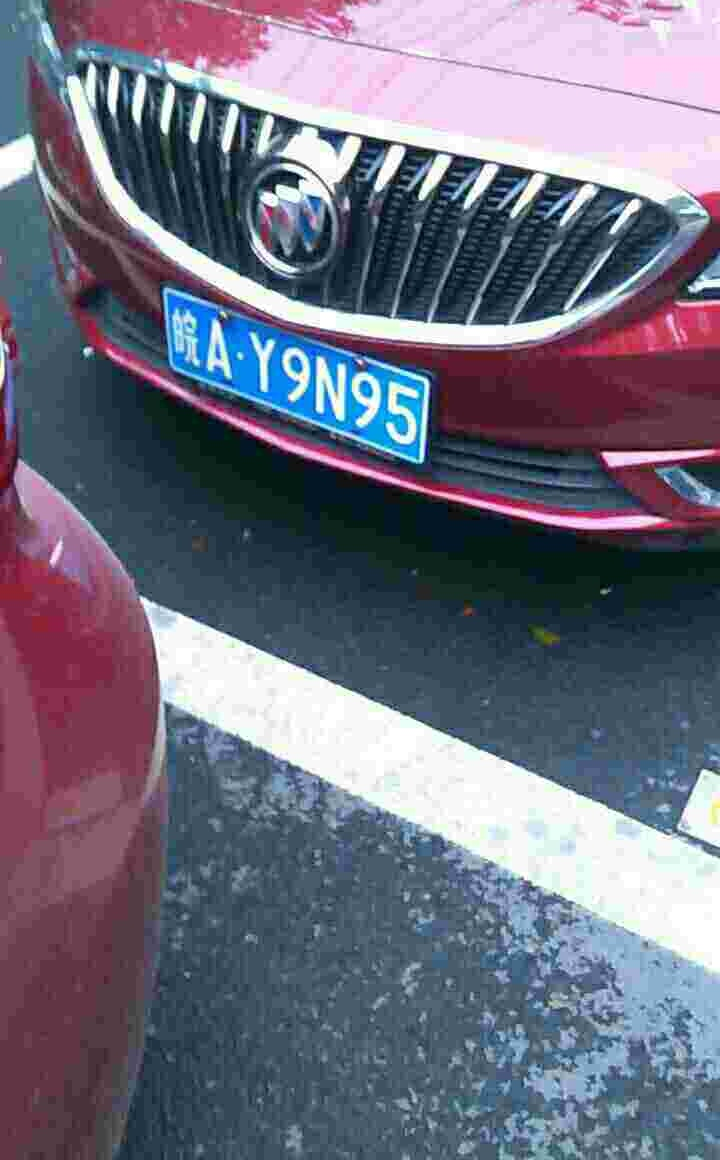car: (162, 278, 424, 465)
